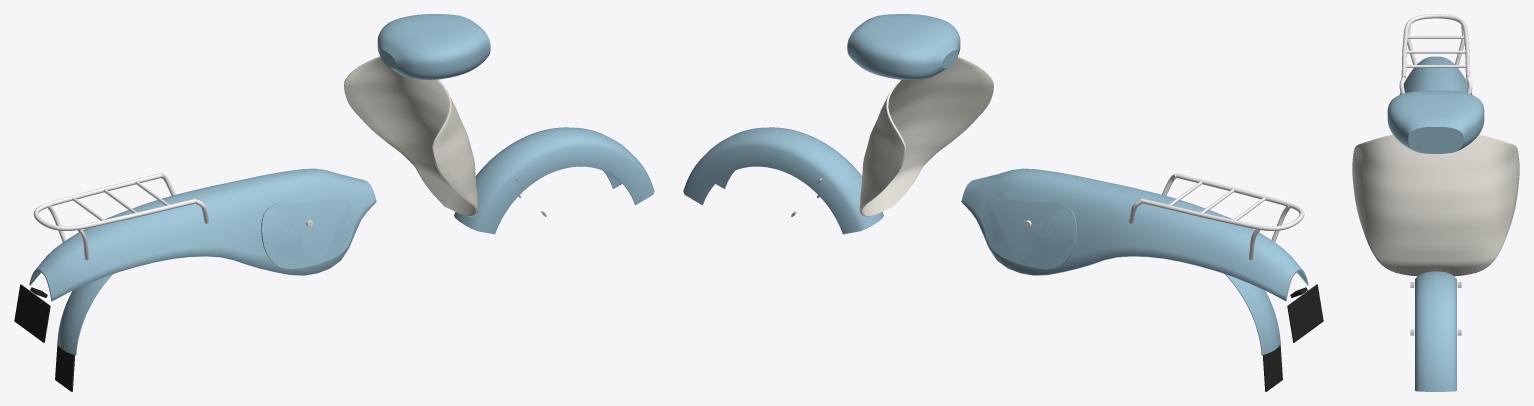
The model's file is bike_step_through__bodywork.glb.
The picture shows the model from 3 angles, left to right: view 1: azimuth 30°, elevation 25°; view 2: azimuth 150°, elevation 25°; view 3: azimuth 270°, elevation 25°; orthographic projection. The views are drawn at different scales.
Parts seen in each view (by area): view 1: frame_body__rear_body, frame_body__leg_shield, frame_body__front_mudguard, frame_body__handlebar_cowl, frame_body__side_covers__left, frame_body__carrier, frame_body__rear_mudguard, frame_body__number_plate_bracket, frame_body__rear_mudguard__flap; view 2: frame_body__rear_body, frame_body__leg_shield, frame_body__front_mudguard, frame_body__handlebar_cowl, frame_body__side_covers__right, frame_body__carrier, frame_body__rear_mudguard, frame_body__number_plate_bracket, frame_body__rear_mudguard__flap; view 3: frame_body__leg_shield, frame_body__handlebar_cowl, frame_body__front_mudguard, frame_body__carrier, frame_body__rear_body.
Part boxes in pixels (x1,y1,x2,y2): frame_body__rear_body: (29, 168, 376, 301); frame_body__leg_shield: (344, 56, 478, 216); frame_body__front_mudguard: (454, 127, 654, 234); frame_body__handlebar_cowl: (377, 14, 490, 79); frame_body__side_covers__left: (261, 192, 354, 269); frame_body__carrier: (33, 173, 208, 259); frame_body__rear_mudguard: (57, 274, 112, 355); frame_body__number_plate_bracket: (14, 284, 50, 342); frame_body__rear_mudguard__flap: (55, 343, 75, 391); frame_body__rear_body: (961, 168, 1308, 301); frame_body__leg_shield: (859, 56, 993, 216); frame_body__front_mudguard: (683, 127, 883, 234); frame_body__handlebar_cowl: (847, 14, 960, 79); frame_body__side_covers__right: (983, 192, 1076, 269); frame_body__carrier: (1129, 173, 1304, 259); frame_body__rear_mudguard: (1225, 274, 1280, 355); frame_body__number_plate_bracket: (1287, 284, 1323, 342); frame_body__rear_mudguard__flap: (1262, 343, 1282, 391); frame_body__leg_shield: (1352, 134, 1519, 276); frame_body__handlebar_cowl: (1387, 90, 1484, 153); frame_body__front_mudguard: (1415, 271, 1456, 391); frame_body__carrier: (1399, 14, 1472, 94); frame_body__rear_body: (1399, 56, 1472, 94).
Bounding box in the file's own units: 194 × 80.1 × 48.89.
